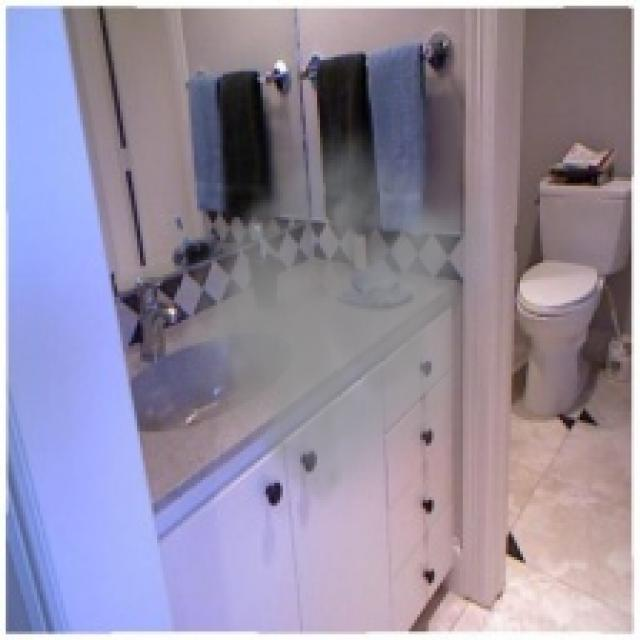Smoke: (146, 111, 488, 523)
